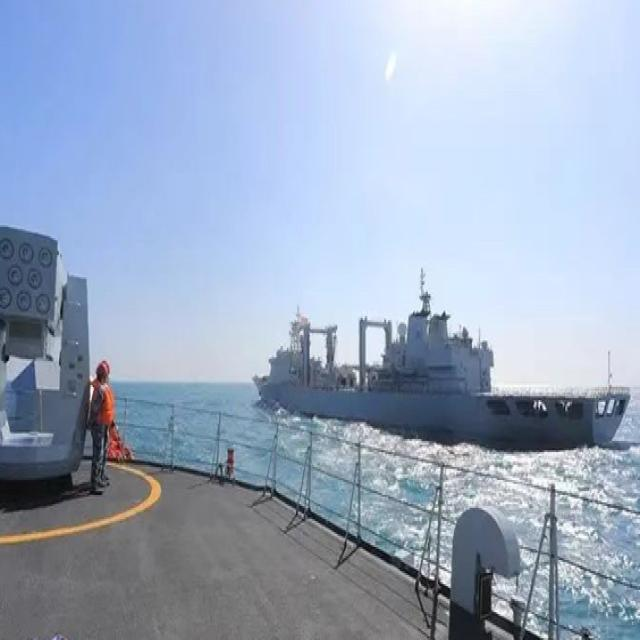navalvessels: (251, 248, 639, 458)
